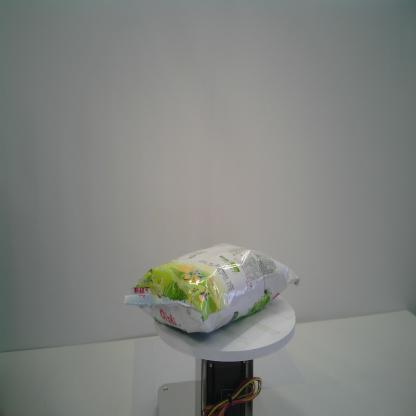Puffed Food: (123, 242, 300, 336)
